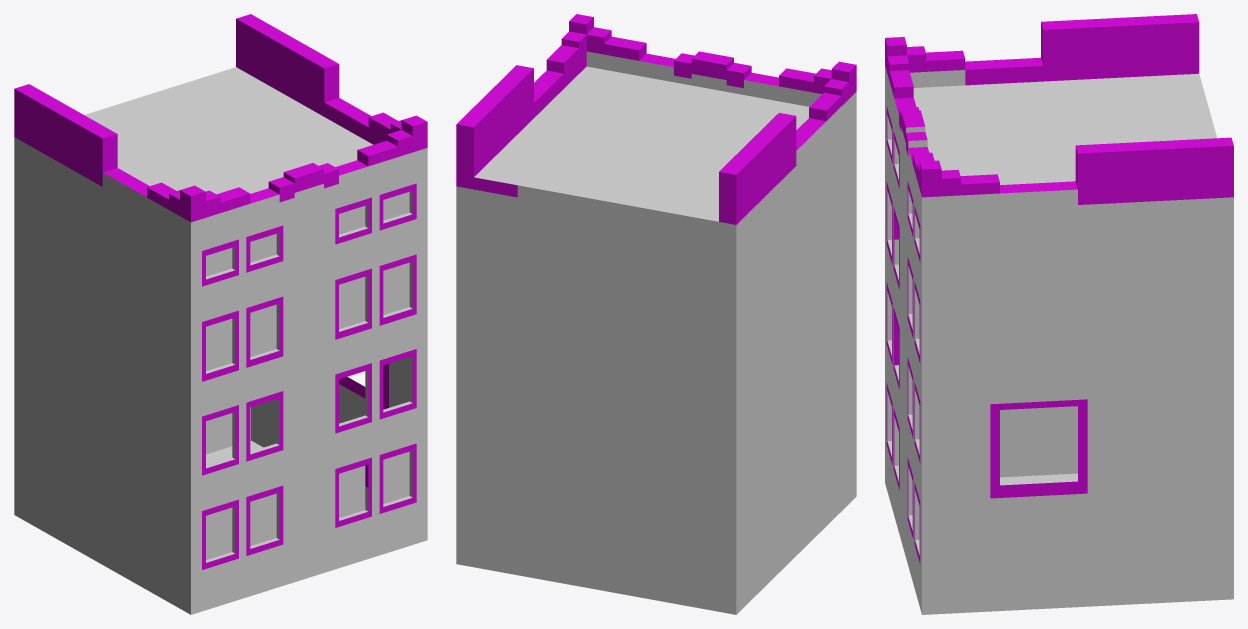
3 renders of one model, left to right at view 1: azimuth 30°, elevation 25°; view 2: azimuth 150°, elevation 25°; view 3: azimuth 270°, elevation 25°, orthographic. The views are drawn at different scales.
Visible parts, largest first — view 1: Cube.006; view 2: Cube.006; view 3: Cube.006.
Part boxes in pixels (bbox=[...]): Cube.006: bbox=[14, 14, 427, 614]; Cube.006: bbox=[456, 14, 856, 614]; Cube.006: bbox=[885, 14, 1233, 614].
Bounding box in the file's own units: 331 × 475 × 331.
